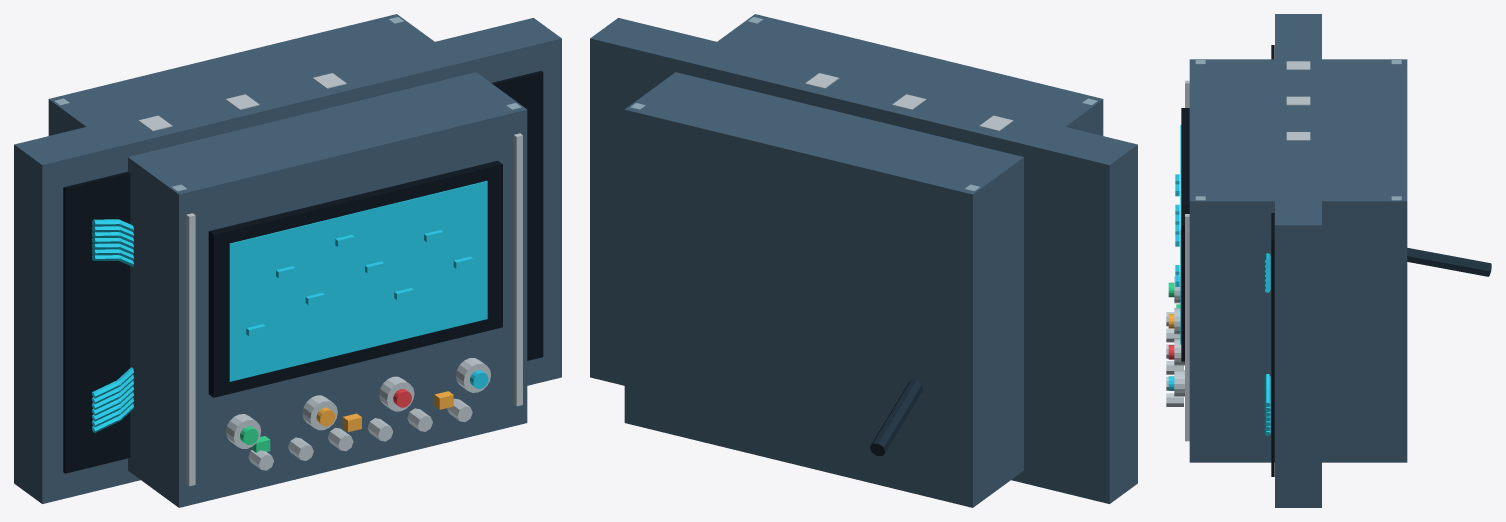
File: 46_L80_PAM4WaveformSamplingInstrument.fbx
The picture shows the model from 3 angles, left to right: view 1: azimuth 30°, elevation 25°; view 2: azimuth 150°, elevation 25°; view 3: azimuth 270°, elevation 25°; orthographic projection. The views are drawn at different scales.
Parts seen in each view (by area): view 1: PAM4WaveformSamplingInstrument, PAM4WaveformSamplingInstrument_Part_0035, PAM4WaveformSamplingInstrument_Part_0036; view 2: PAM4WaveformSamplingInstrument, PAM4WaveformSamplingInstrument_Part_0035; view 3: PAM4WaveformSamplingInstrument, PAM4WaveformSamplingInstrument_Part_0035, PAM4WaveformSamplingInstrument_Part_0036.
Part boxes in pixels (x1,y1,x2,y2): PAM4WaveformSamplingInstrument: (48,14,527,507); PAM4WaveformSamplingInstrument_Part_0035: (14,18,561,503); PAM4WaveformSamplingInstrument_Part_0036: (63,71,543,473); PAM4WaveformSamplingInstrument: (624,14,1103,507); PAM4WaveformSamplingInstrument_Part_0035: (590,18,1137,503); PAM4WaveformSamplingInstrument: (1166,59,1491,462); PAM4WaveformSamplingInstrument_Part_0035: (1275,14,1321,507); PAM4WaveformSamplingInstrument_Part_0036: (1271,45,1274,476).
Bounding box in the file's own units: 170 × 106 × 111.
